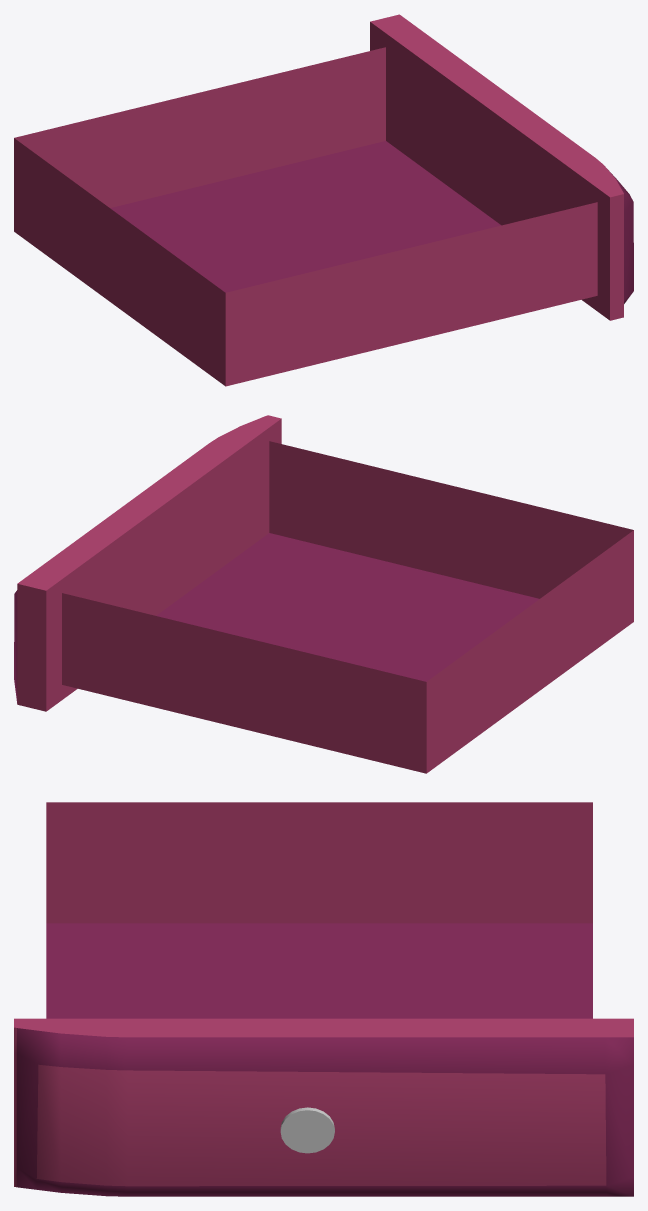
Rendered from cajon2.obj.
3 renders of one model, top to bottom at view 1: azimuth 30°, elevation 25°; view 2: azimuth 150°, elevation 25°; view 3: azimuth 270°, elevation 25°, orthographic. The views are drawn at different scales.
Parts seen in each view (by area): view 1: pCube10; view 2: pCube10; view 3: pCube10.
Part boxes in pixels (<box>): pCube10: <box>14,14,633,386</box>; pCube10: <box>14,415,633,773</box>; pCube10: <box>14,802,633,1196</box>.
Bounding box in the file's own units: 2.52 × 0.7088 × 2.5.
